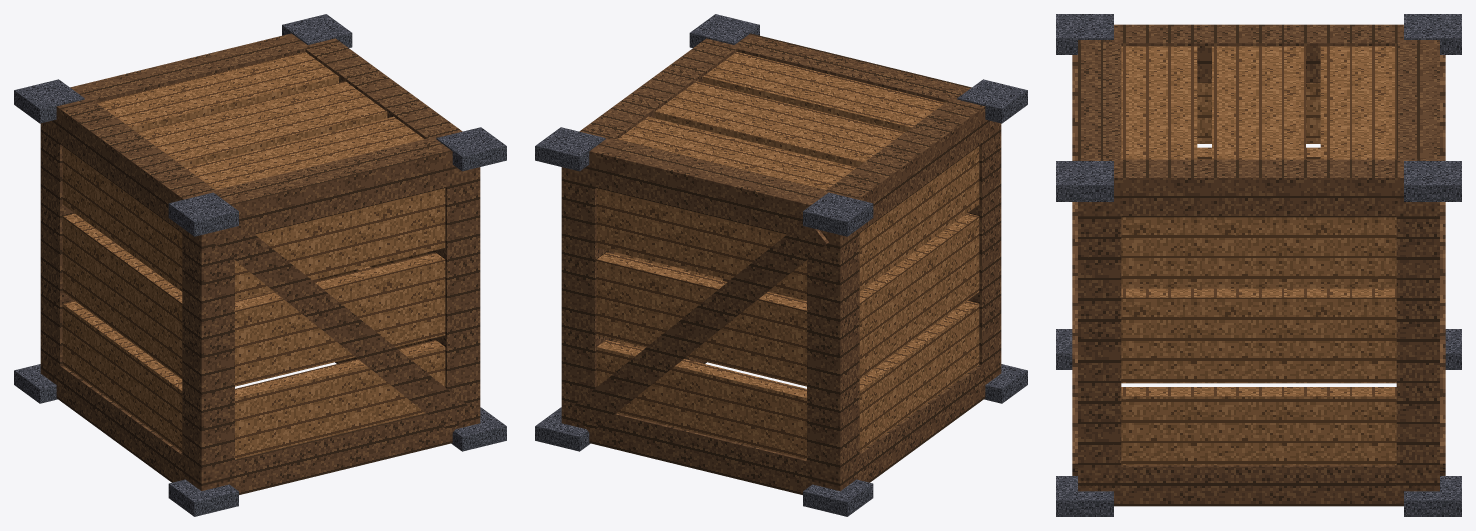
Rendered from crate_wood.glb.
3 renders of one model, left to right at view 1: azimuth 30°, elevation 25°; view 2: azimuth 150°, elevation 25°; view 3: azimuth 270°, elevation 25°, orthographic. The views are drawn at different scales.
Visible parts, largest first — view 1: Body; view 2: Body; view 3: Body.
Part boxes in pixels (<box>): Body: <box>14,14,506,516</box>; Body: <box>535,14,1027,516</box>; Body: <box>1056,14,1461,516</box>.
Size of the model in its own units: 1.12 by 1.01 by 1.12.
3 materials, 3 textured.
